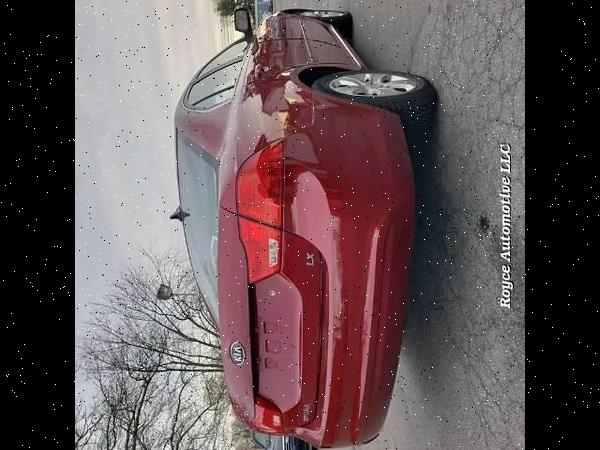Front_Right_Door: (250, 12, 348, 50)
Front_Right_Window: (196, 28, 255, 80)
Left_Taillight: (245, 393, 280, 433)
Rear_Bumper: (280, 92, 420, 448)
Rear_Fender: (218, 79, 317, 225)
Rear_Right_Door: (241, 38, 363, 97)
Rear_Right_Window: (187, 55, 248, 107)
Rear_Windshield: (177, 123, 220, 323)
Right_Taillight: (231, 136, 280, 281)
Roof: (176, 86, 230, 155)
Tailgate: (216, 204, 320, 432)
Wheel: (318, 68, 433, 110)
